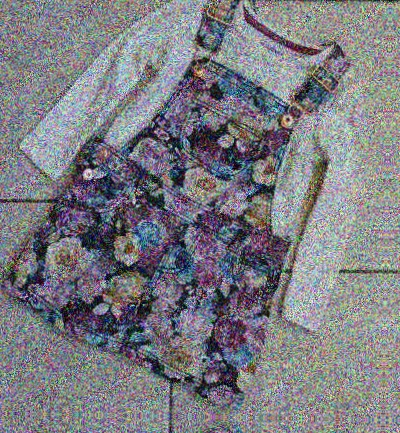Dress: (0, 0, 391, 414), (384, 6, 400, 421), (0, 420, 383, 433), (376, 427, 400, 433)
